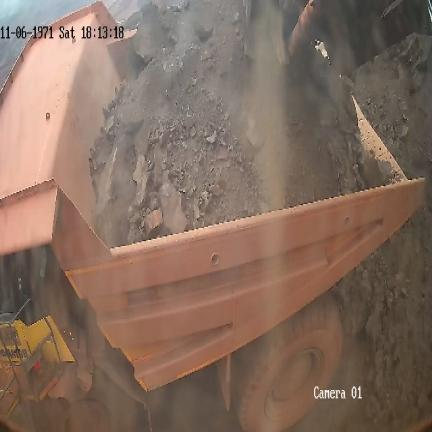pile: (86, 0, 391, 247), (336, 197, 430, 428)
